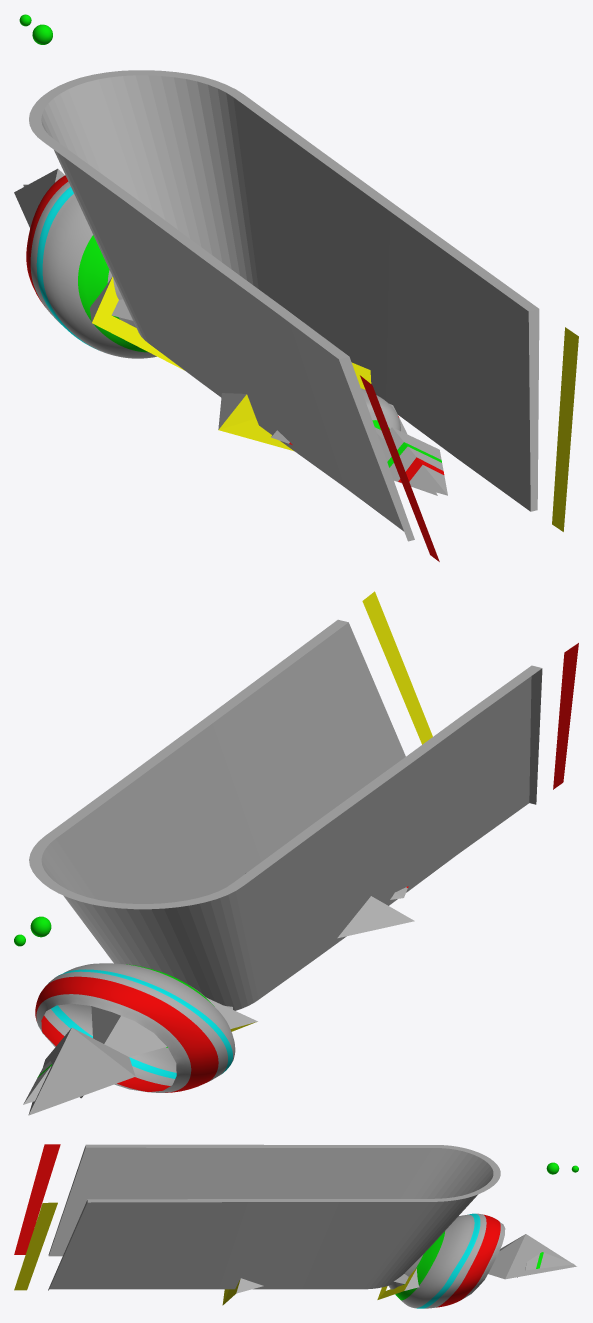
Rendered from triptycShips.fbx.
The picture shows the model from 3 angles, top to bottom: view 1: azimuth 30°, elevation 25°; view 2: azimuth 150°, elevation 25°; view 3: azimuth 270°, elevation 25°; orthographic projection. The views are drawn at different scales.
Parts seen in each view (by area): view 1: ship_02, ship_01, ship_03; view 2: ship_02, ship_01, ship_03; view 3: ship_02, ship_01, ship_03.
Boxes of the visible parts, x1,y1,x2,y2 form: ship_02: [19, 14, 578, 561]; ship_01: [23, 175, 447, 495]; ship_03: [14, 168, 437, 495]; ship_02: [14, 591, 578, 1010]; ship_01: [23, 963, 235, 1104]; ship_03: [28, 873, 414, 1115]; ship_02: [14, 1144, 578, 1290]; ship_01: [389, 1213, 574, 1308]; ship_03: [222, 1234, 576, 1305].
Size of the model in its own units: 0.0549 by 0.0617 by 0.2233.
